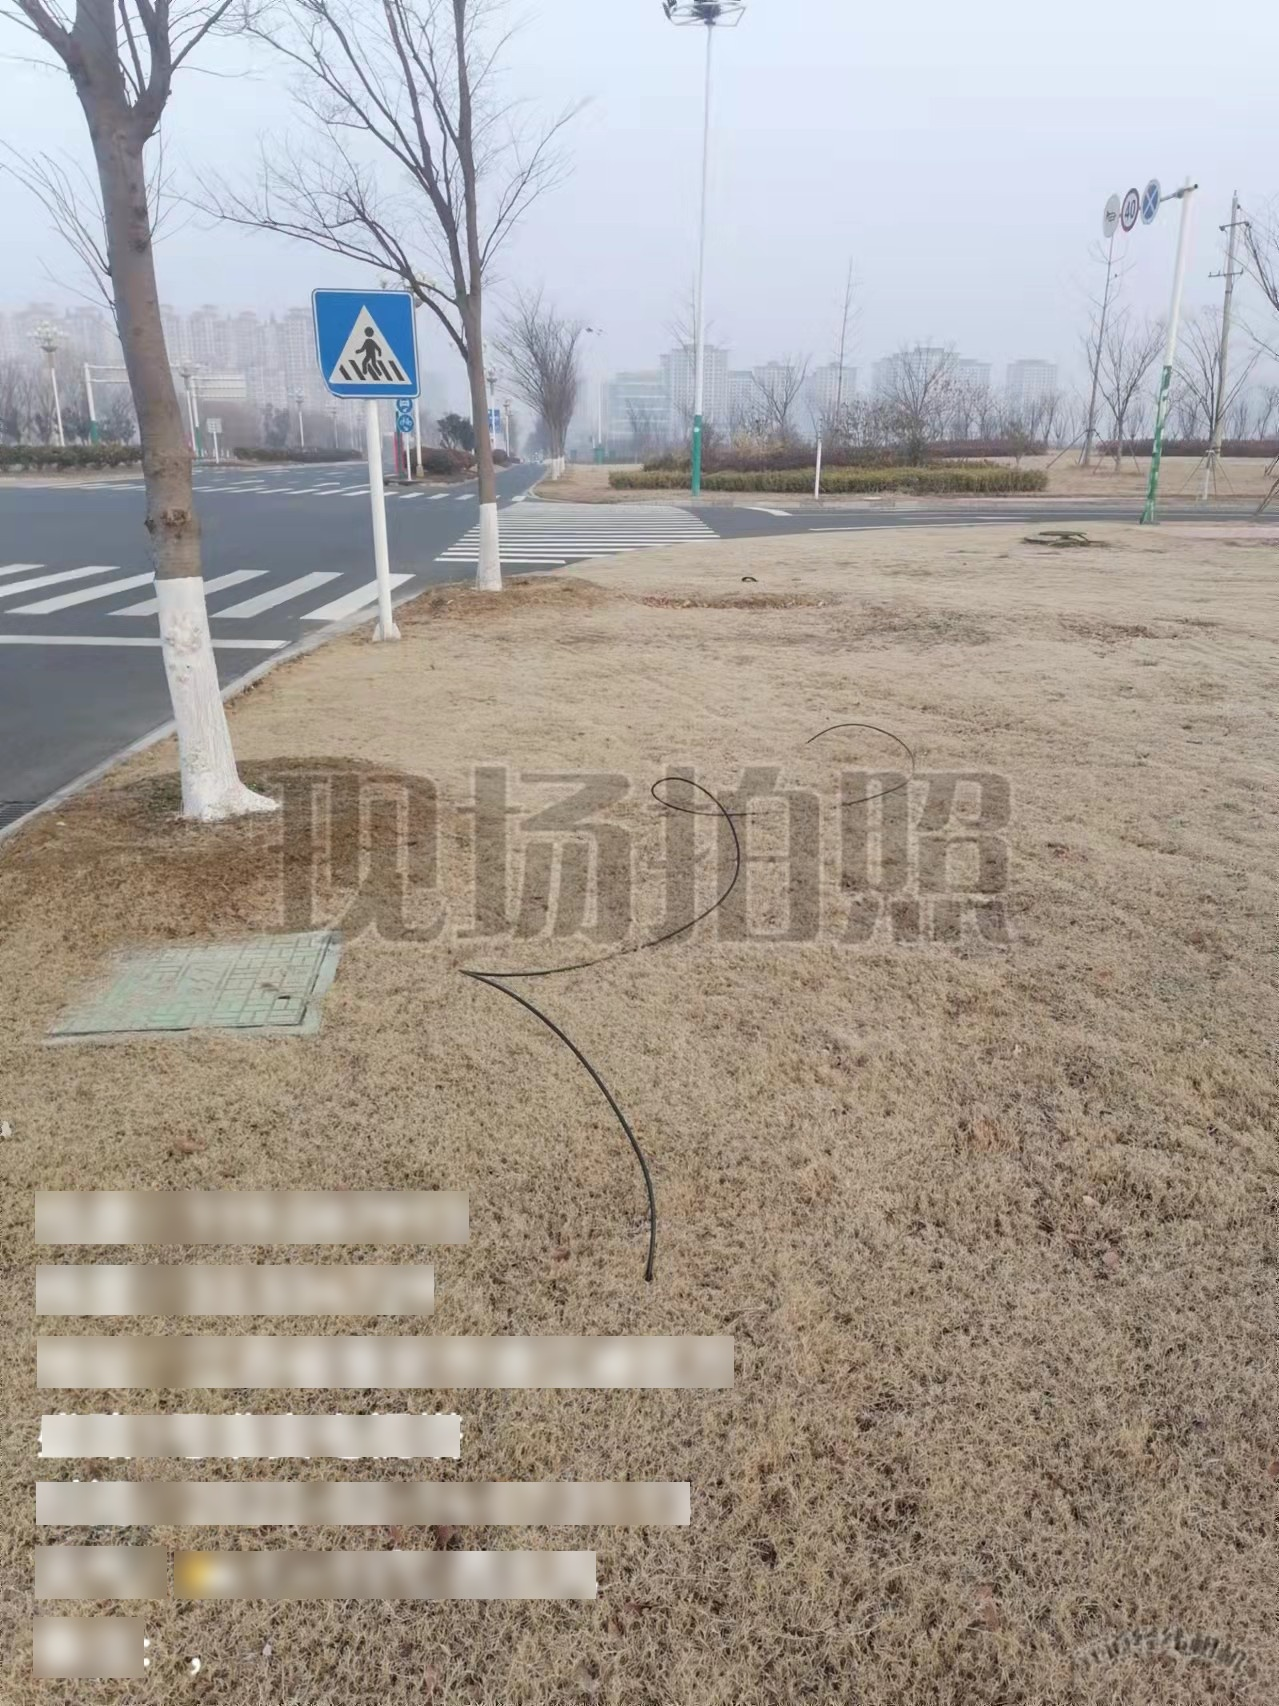good: (38, 924, 340, 1045)
